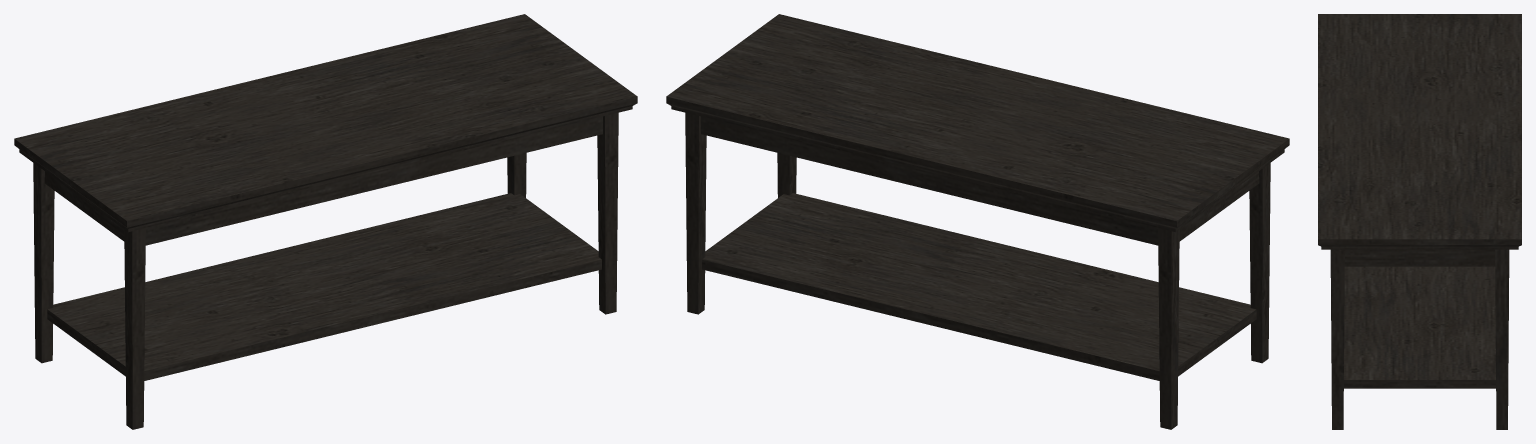
Rendered from coffee_table_1.obj.
3 renders of one model, left to right at view 1: azimuth 30°, elevation 25°; view 2: azimuth 150°, elevation 25°; view 3: azimuth 270°, elevation 25°, orthographic. The views are drawn at different scales.
Parts seen in each view (by area): view 1: coffee_table_1; view 2: coffee_table_1; view 3: coffee_table_1.
Part boxes in pixels (left/top/right/bottom): coffee_table_1: left=14, top=14, right=637, bottom=429; coffee_table_1: left=666, top=14, right=1289, bottom=429; coffee_table_1: left=1318, top=14, right=1521, bottom=429.
Size of the model in its own units: 1.62 by 0.66 by 0.62.
